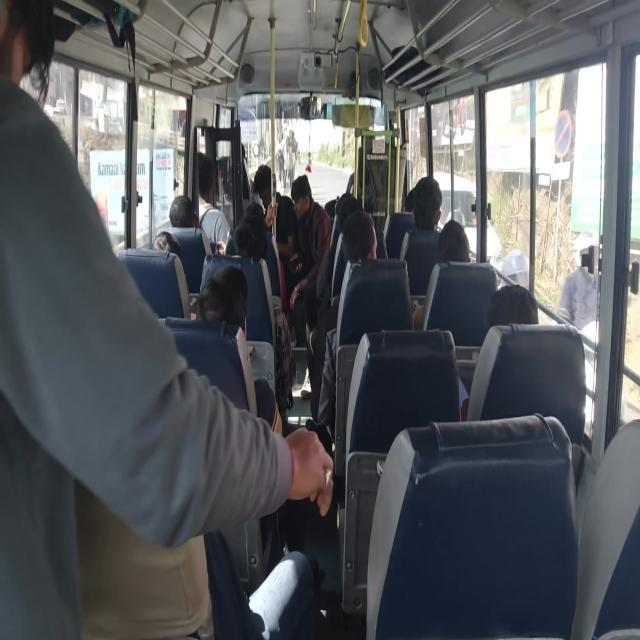person: (196, 250, 253, 349), (1, 0, 53, 102), (328, 205, 386, 269), (485, 277, 546, 337), (436, 214, 479, 272), (191, 142, 221, 214), (235, 218, 268, 267), (164, 188, 201, 229), (417, 172, 441, 232), (290, 165, 313, 223), (148, 227, 178, 269), (251, 164, 277, 203), (330, 195, 355, 230), (357, 120, 378, 154), (400, 184, 419, 214), (244, 202, 265, 225), (238, 138, 248, 166)
